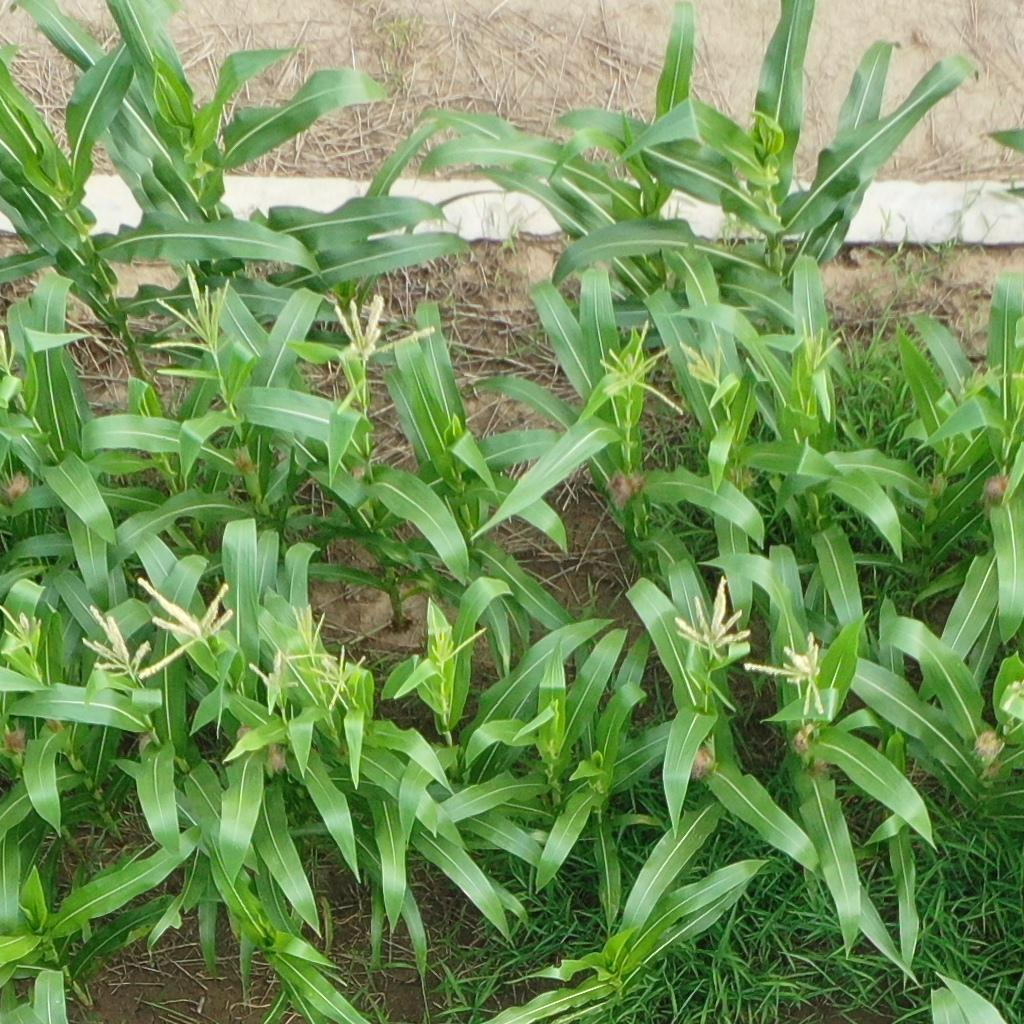Tassel: (132, 573, 240, 681), (599, 320, 685, 417), (743, 633, 836, 722), (329, 296, 440, 369), (149, 262, 233, 358), (668, 573, 757, 662), (79, 602, 152, 681), (311, 646, 372, 712), (421, 621, 491, 671), (248, 651, 301, 706), (289, 603, 334, 664), (799, 315, 844, 372), (680, 338, 727, 388), (955, 361, 1012, 402), (1, 602, 45, 654), (1, 327, 20, 377), (1003, 675, 1024, 714)
